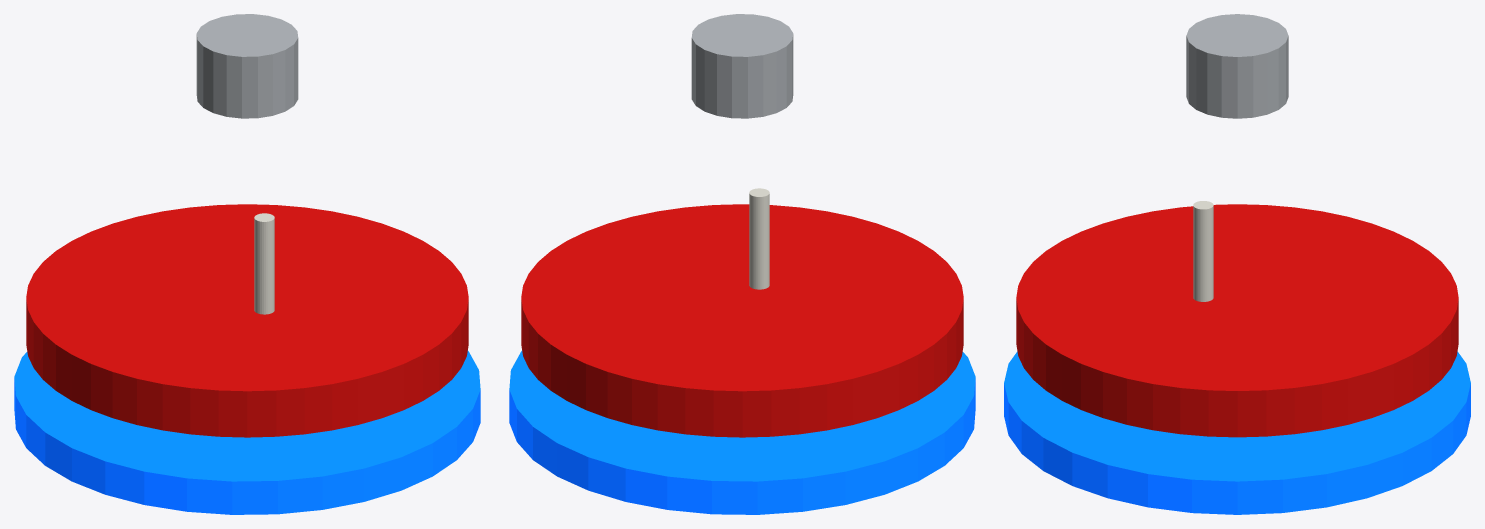
File: sports_stopwatch.dae
The picture shows the model from 3 angles, left to right: view 1: azimuth 30°, elevation 25°; view 2: azimuth 150°, elevation 25°; view 3: azimuth 270°, elevation 25°; orthographic projection.
Visible parts, largest first — view 1: 04_16_Popular_Sports_Stopwatch_part_01, 04_16_Popular_Sports_Stopwatch_ROOT_base, 04_16_Popular_Sports_Stopwatch_part_02, 04_16_Popular_Sports_Stopwatch_part_04; view 2: 04_16_Popular_Sports_Stopwatch_part_01, 04_16_Popular_Sports_Stopwatch_ROOT_base, 04_16_Popular_Sports_Stopwatch_part_02, 04_16_Popular_Sports_Stopwatch_part_04; view 3: 04_16_Popular_Sports_Stopwatch_part_01, 04_16_Popular_Sports_Stopwatch_ROOT_base, 04_16_Popular_Sports_Stopwatch_part_02, 04_16_Popular_Sports_Stopwatch_part_04.
Part boxes in pixels (box(x1,y1,x2,y2)): 04_16_Popular_Sports_Stopwatch_part_01: box(26, 204, 468, 437); 04_16_Popular_Sports_Stopwatch_ROOT_base: box(14, 350, 480, 514); 04_16_Popular_Sports_Stopwatch_part_02: box(196, 14, 298, 118); 04_16_Popular_Sports_Stopwatch_part_04: box(254, 213, 274, 314); 04_16_Popular_Sports_Stopwatch_part_01: box(521, 204, 963, 437); 04_16_Popular_Sports_Stopwatch_ROOT_base: box(509, 350, 975, 514); 04_16_Popular_Sports_Stopwatch_part_02: box(691, 14, 793, 118); 04_16_Popular_Sports_Stopwatch_part_04: box(749, 188, 769, 289); 04_16_Popular_Sports_Stopwatch_part_01: box(1016, 204, 1458, 437); 04_16_Popular_Sports_Stopwatch_ROOT_base: box(1004, 351, 1470, 514); 04_16_Popular_Sports_Stopwatch_part_02: box(1186, 14, 1288, 118); 04_16_Popular_Sports_Stopwatch_part_04: box(1193, 201, 1213, 301).
Size of the model in its own units: 0.76 by 0.6838 by 0.76.
